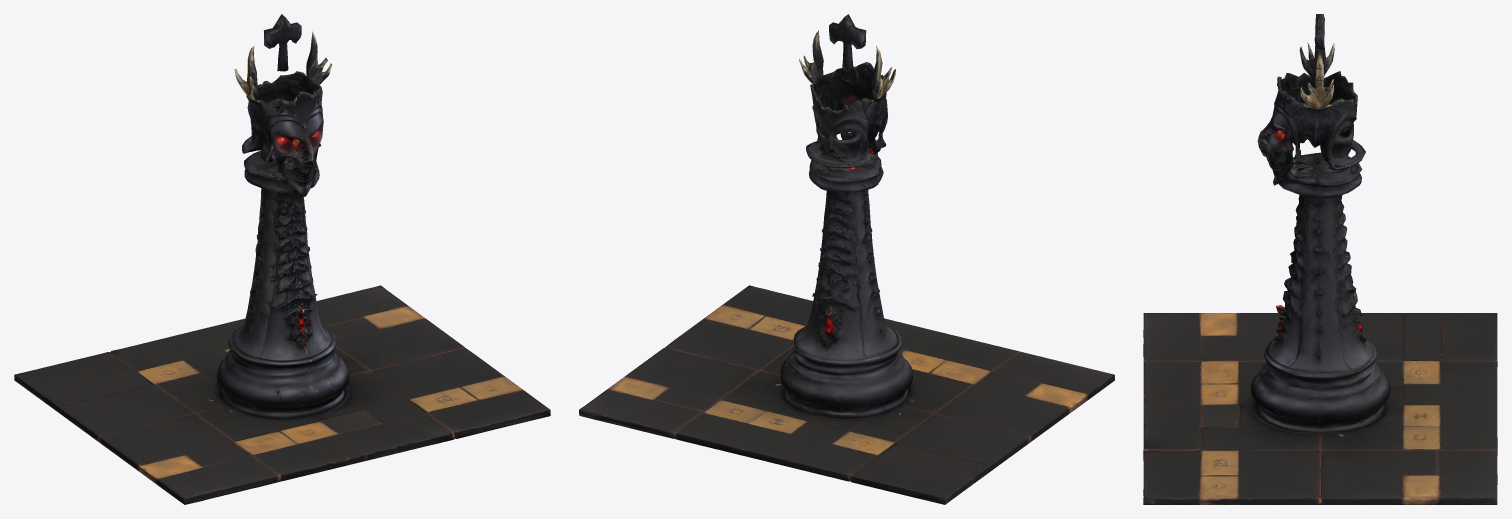
The model's file is A_terrifying_black_qu_0613004506_texture.glb.
3 renders of one model, left to right at view 1: azimuth 30°, elevation 25°; view 2: azimuth 150°, elevation 25°; view 3: azimuth 270°, elevation 25°, orthographic. The views are drawn at different scales.
Size of the model in its own units: 2 by 2 by 1.61.
Materials: 1 (1 with a texture image).
